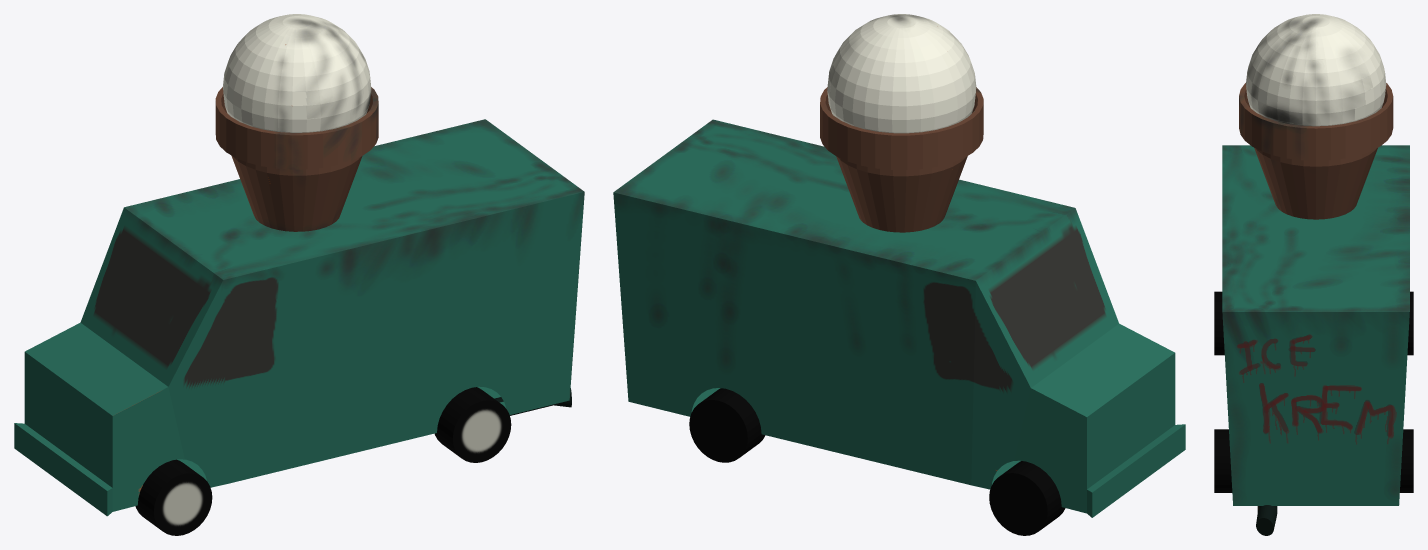
Rendered from Truck.glb.
The picture shows the model from 3 angles, left to right: view 1: azimuth 30°, elevation 25°; view 2: azimuth 150°, elevation 25°; view 3: azimuth 270°, elevation 25°; orthographic projection. The views are drawn at different scales.
Visible parts, largest first — view 1: TruckBody, Wheels; view 2: TruckBody, Wheels; view 3: TruckBody, Wheels.
Boxes of the visible parts, <box> form: TruckBody: <box>14,14,584,516</box>; Wheels: <box>135,387,511,535</box>; TruckBody: <box>613,14,1185,517</box>; Wheels: <box>689,388,1065,535</box>; TruckBody: <box>1222,14,1409,535</box>; Wheels: <box>1214,291,1413,492</box>.
Size of the model in its own units: 6.39 by 5.44 by 2.4.
2 materials, 2 textured.
